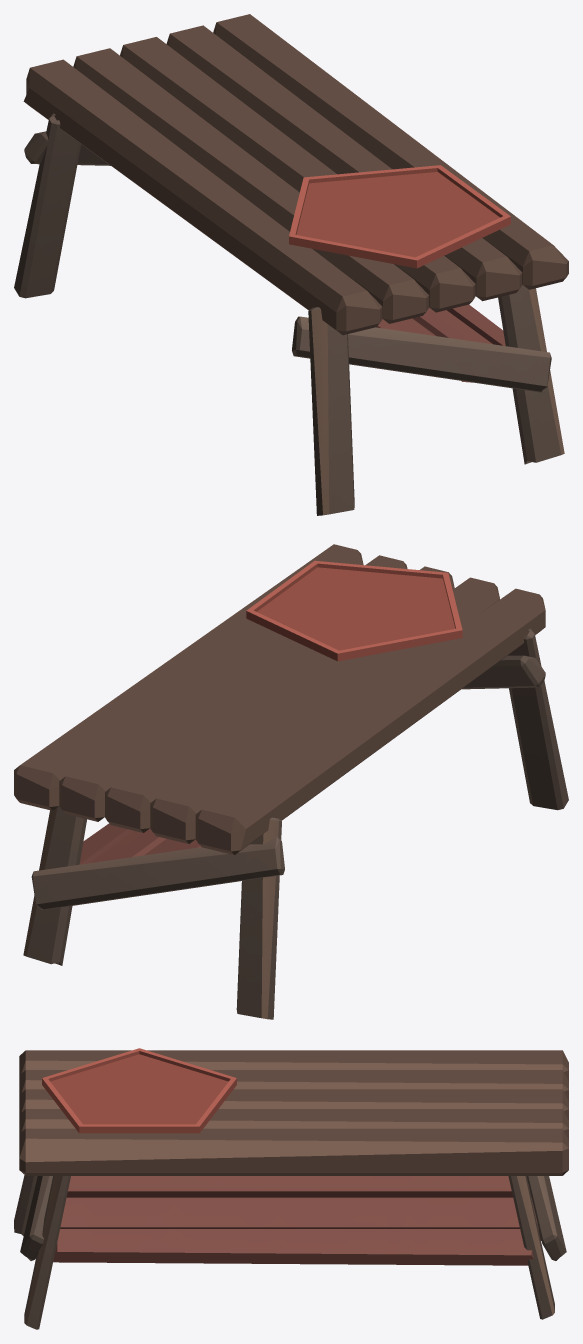
Rendered from Alchemic_desk.fbx.
The picture shows the model from 3 angles, top to bottom: view 1: azimuth 30°, elevation 25°; view 2: azimuth 150°, elevation 25°; view 3: azimuth 270°, elevation 25°; orthographic projection. The views are drawn at different scales.
Visible parts, largest first — view 1: Alchemic_desk; view 2: Alchemic_desk; view 3: Alchemic_desk.
Part boxes in pixels (bbox=[...]): Alchemic_desk: bbox=[14, 14, 568, 515]; Alchemic_desk: bbox=[14, 544, 568, 1019]; Alchemic_desk: bbox=[14, 1048, 568, 1329].
Bounding box in the file's own units: 1.35 × 1.17 × 3.
1 material, 1 textured.
